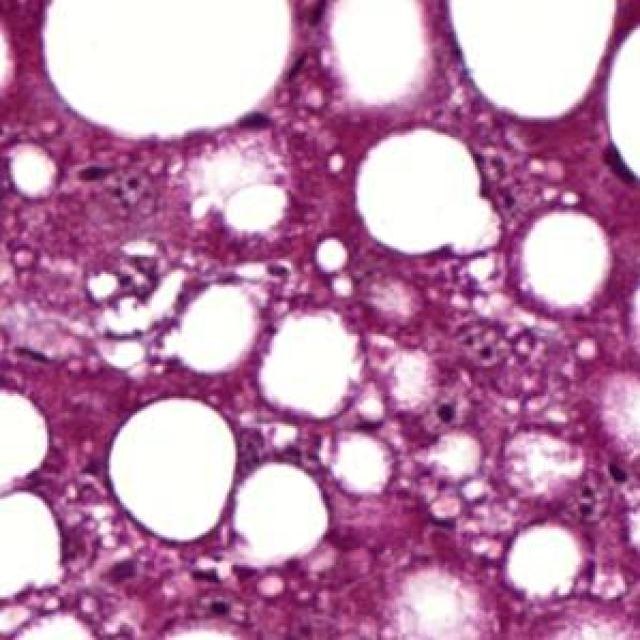steatosis: (109, 392, 244, 548), (360, 133, 488, 259)
